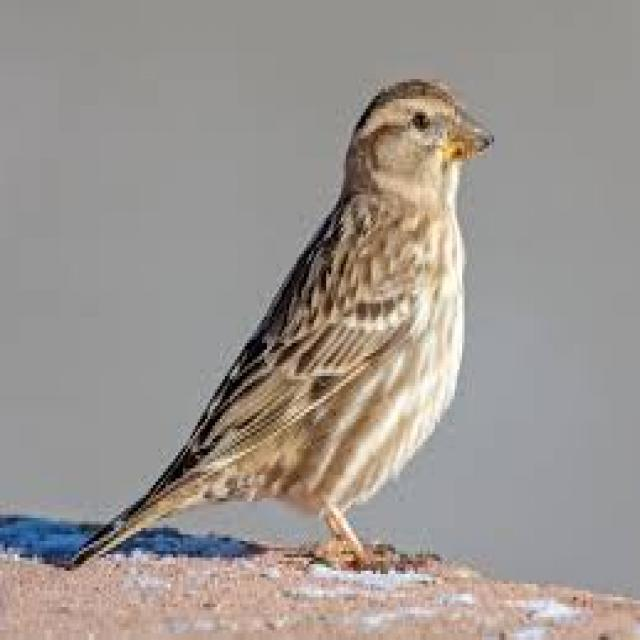bird: (12, 14, 526, 618)
